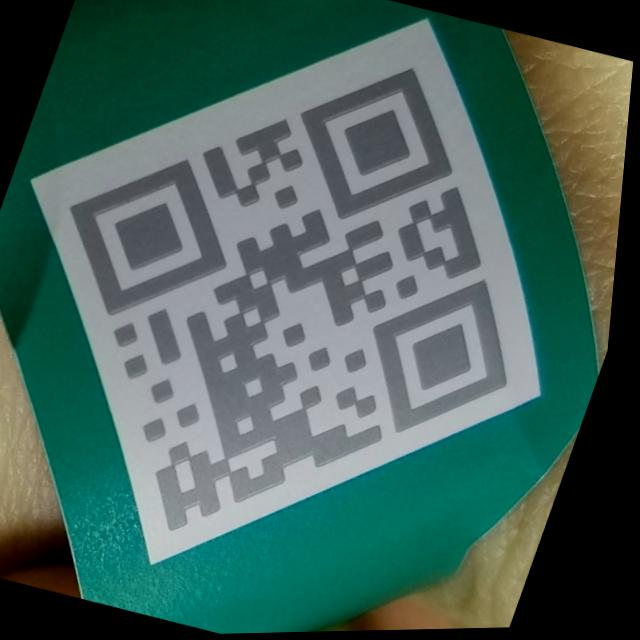QR_CODE: (0, 0, 613, 606)
